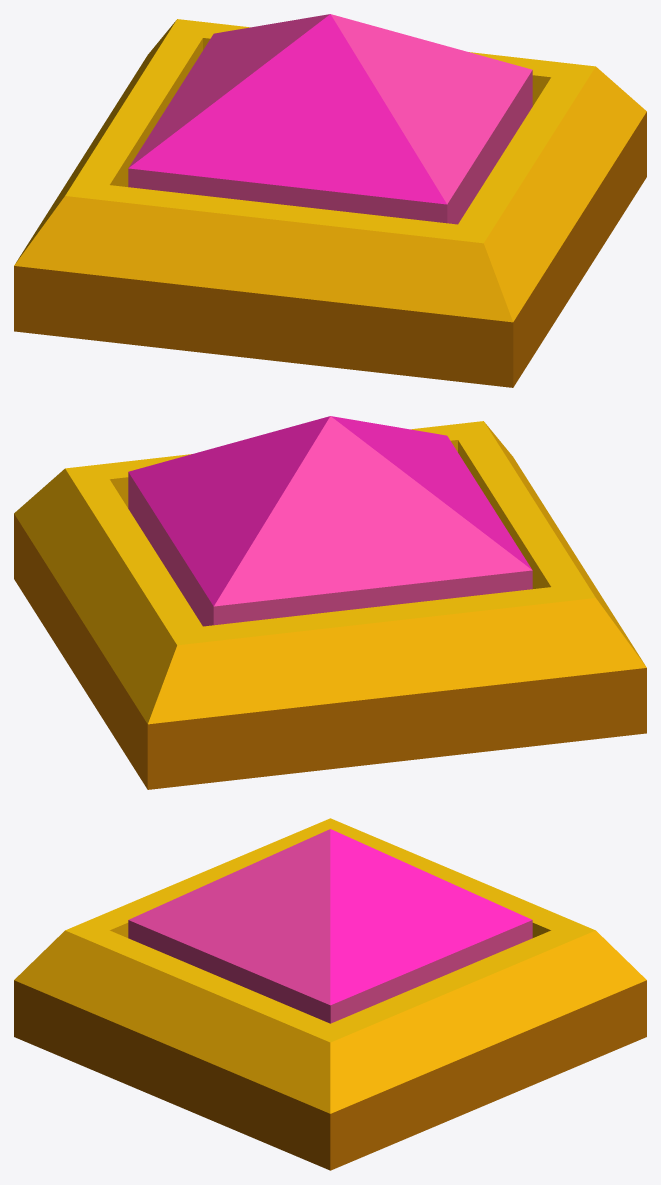
The model's file is Pink_Fantasy_Button.glb.
3 renders of one model, top to bottom at view 1: azimuth 30°, elevation 25°; view 2: azimuth 150°, elevation 25°; view 3: azimuth 270°, elevation 25°, orthographic. The views are drawn at different scales.
Parts seen in each view (by area): view 1: Base_ButtonFantasy_01, ButtonFantasy_01; view 2: Base_ButtonFantasy_01, ButtonFantasy_01; view 3: Base_ButtonFantasy_01, ButtonFantasy_01.
Boxes of the visible parts, left/top/right/bottom form: Base_ButtonFantasy_01: left=14, top=19, right=646, bottom=387; ButtonFantasy_01: left=128, top=14, right=532, bottom=224; Base_ButtonFantasy_01: left=14, top=421, right=646, bottom=789; ButtonFantasy_01: left=128, top=416, right=532, bottom=626; Base_ButtonFantasy_01: left=14, top=818, right=646, bottom=1170; ButtonFantasy_01: left=128, top=829, right=532, bottom=1023.
Size of what is drawn, in the model's own units: 0.4539 by 0.1646 by 0.4539.
Materials: 1 (1 with a texture image).
